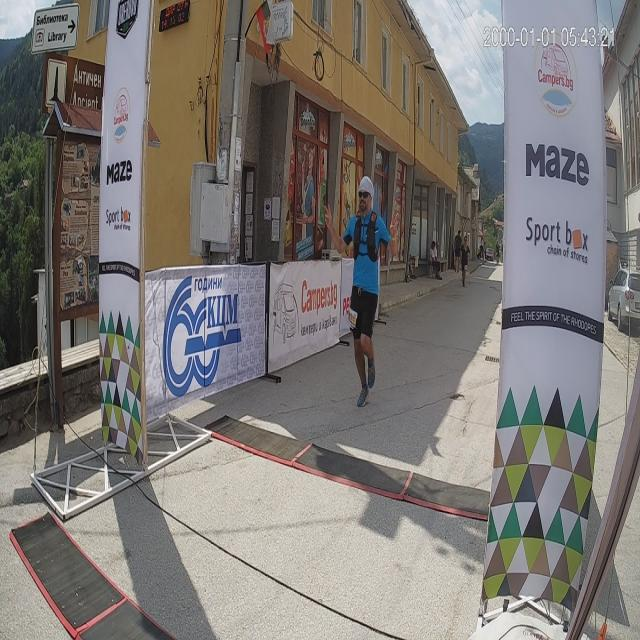runner: (333, 158, 398, 414), (458, 232, 476, 293)
